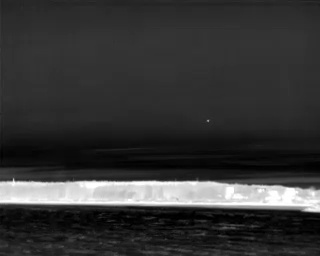HELICOPTER: (204, 117, 212, 125)
